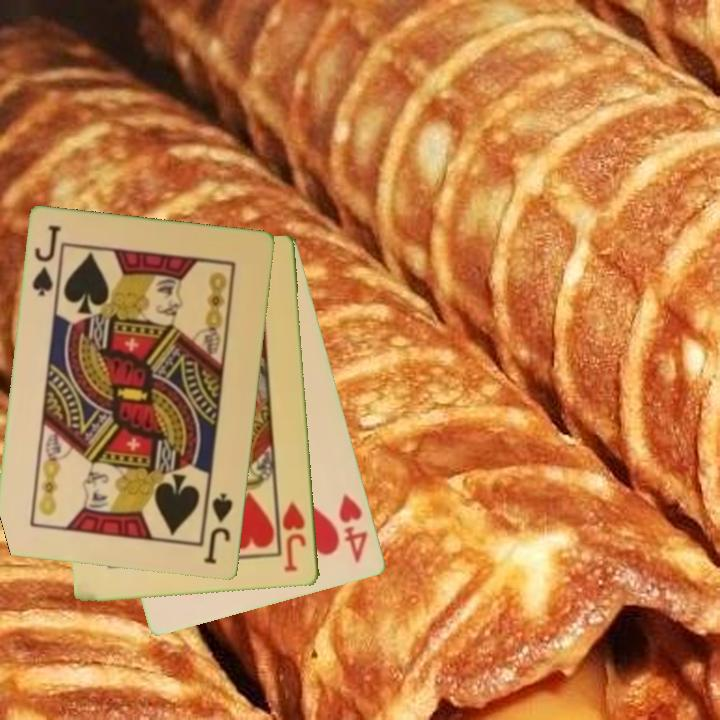4h: (336, 490, 371, 566)
Jh: (279, 499, 310, 575)
Js: (29, 222, 65, 302), (201, 490, 236, 568)
